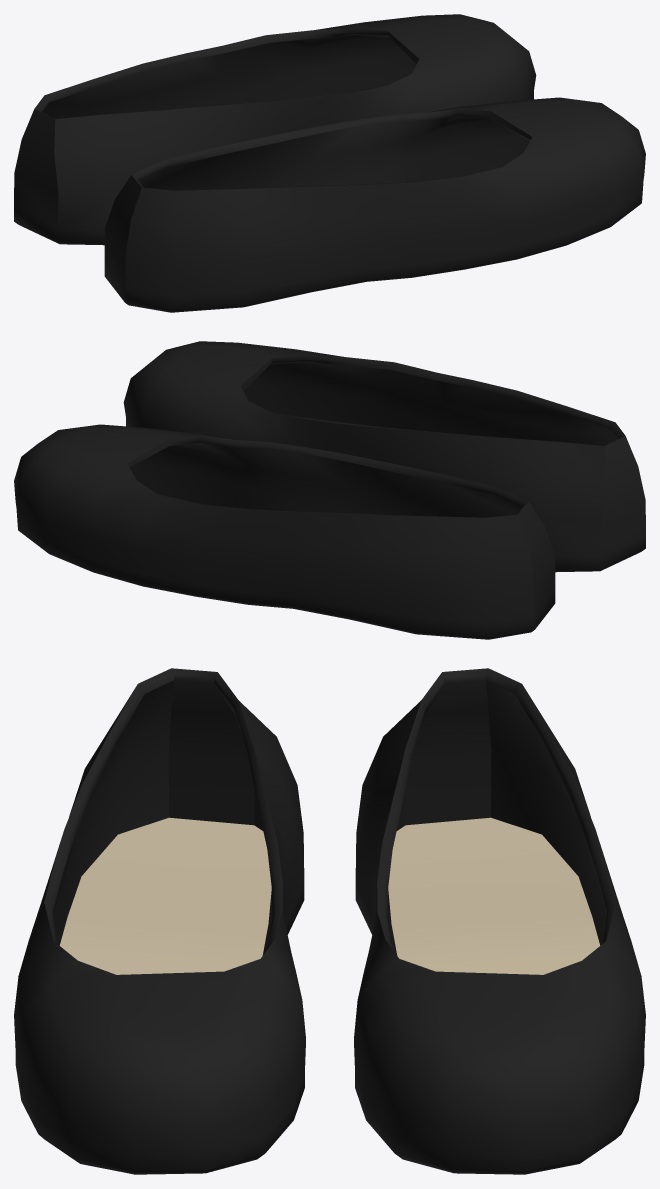
Rendered from shoes 1.gltf.
The picture shows the model from 3 angles, top to bottom: view 1: azimuth 30°, elevation 25°; view 2: azimuth 150°, elevation 25°; view 3: azimuth 270°, elevation 25°; orthographic projection. The views are drawn at different scales.
Parts seen in each view (by area): view 1: root; view 2: root; view 3: root.
Boxes of the visible parts, x1,y1,x2,y2 form: root: [14, 14, 645, 312]; root: [14, 341, 645, 639]; root: [14, 668, 645, 1174].
Size of the model in its own units: 0.2297 by 0.0491 by 0.1674.
